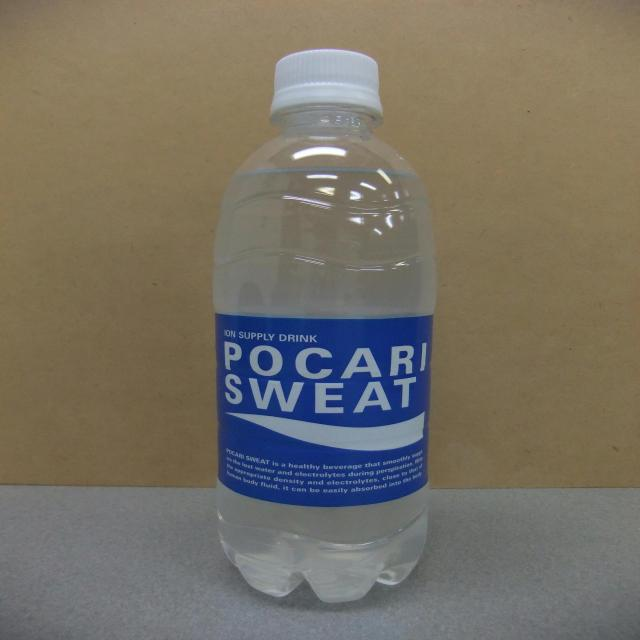bottle: (182, 31, 471, 616)
